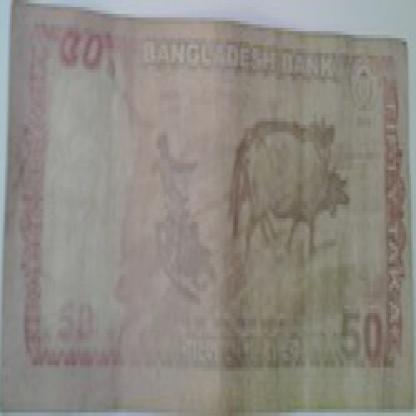Fifty taka: (52, 14, 110, 97), (331, 298, 393, 375)
